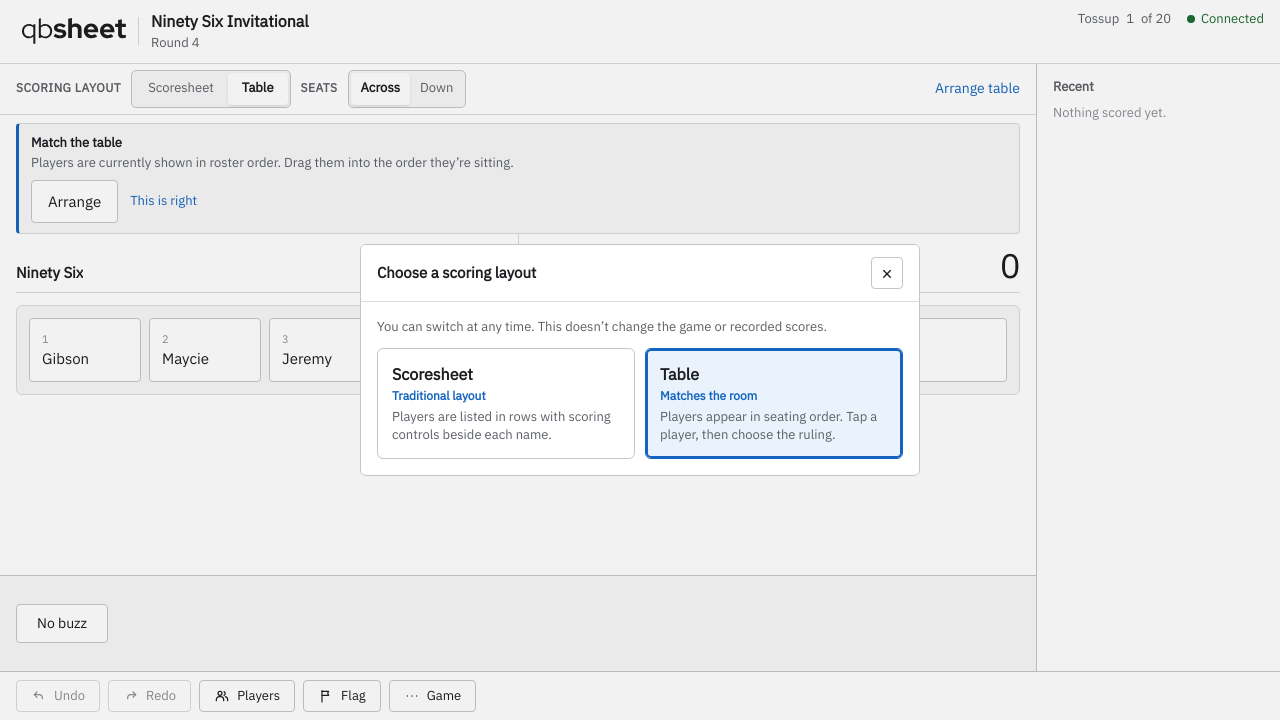
the question a new game opens with › choosing Scoresheet opens the scoresheet
Click the radio button labelled "Scoresheet" at (506, 404), box [377, 348, 635, 459]
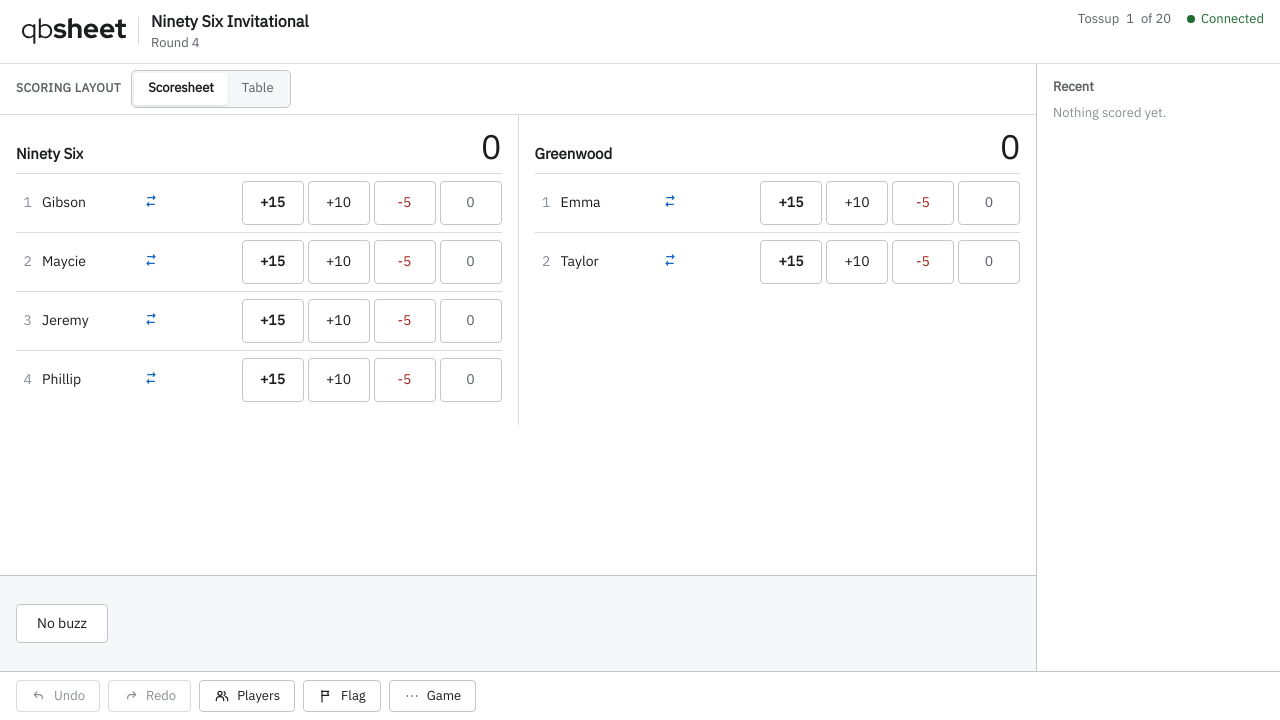
Result: the heading "Choose a scoring layout" is gone
